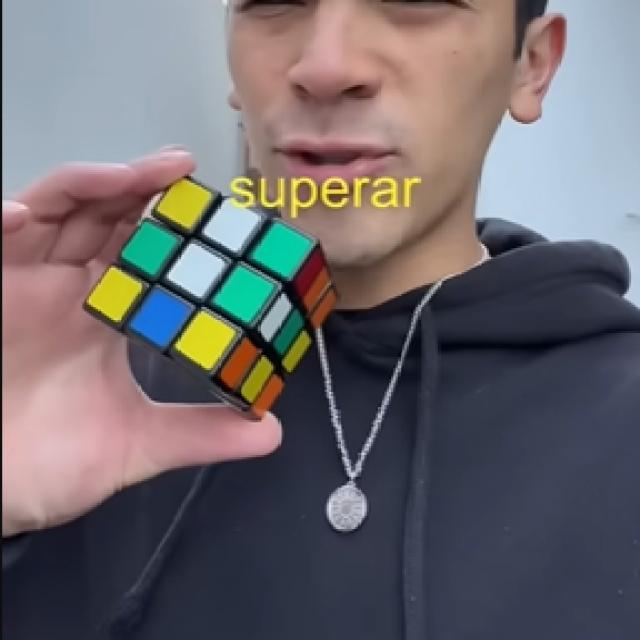Cubo-No-resuelto: (84, 176, 333, 418)
